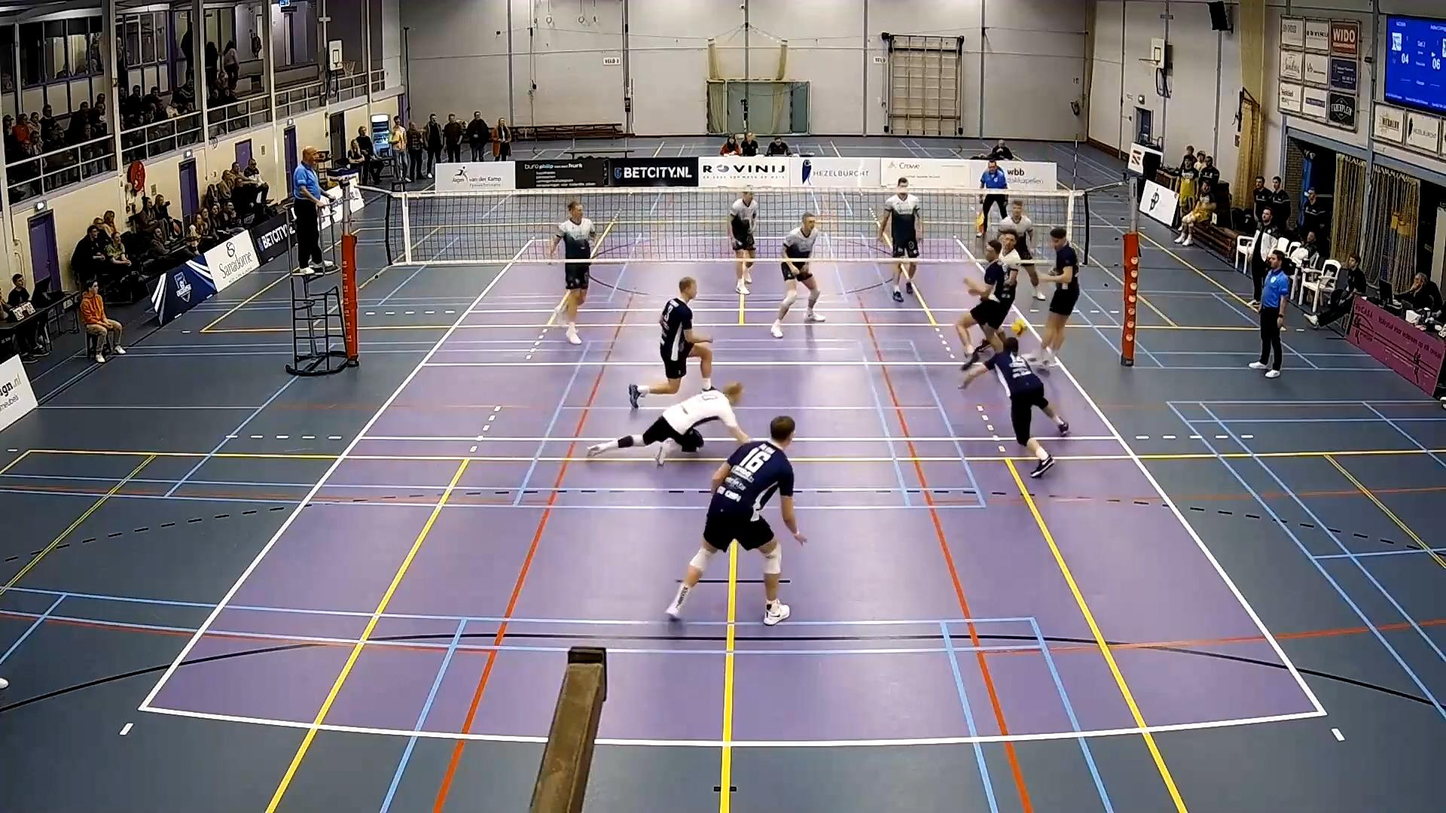difesa: (954, 325, 1084, 489)
